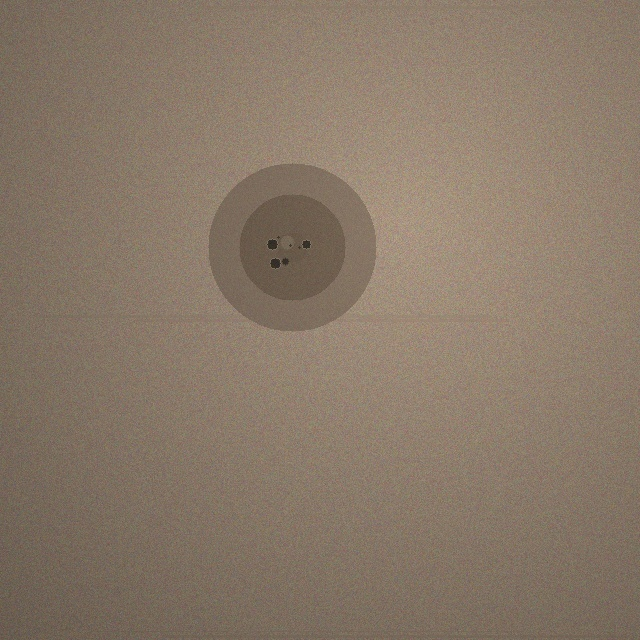shrinkage: (208, 163, 376, 331)
